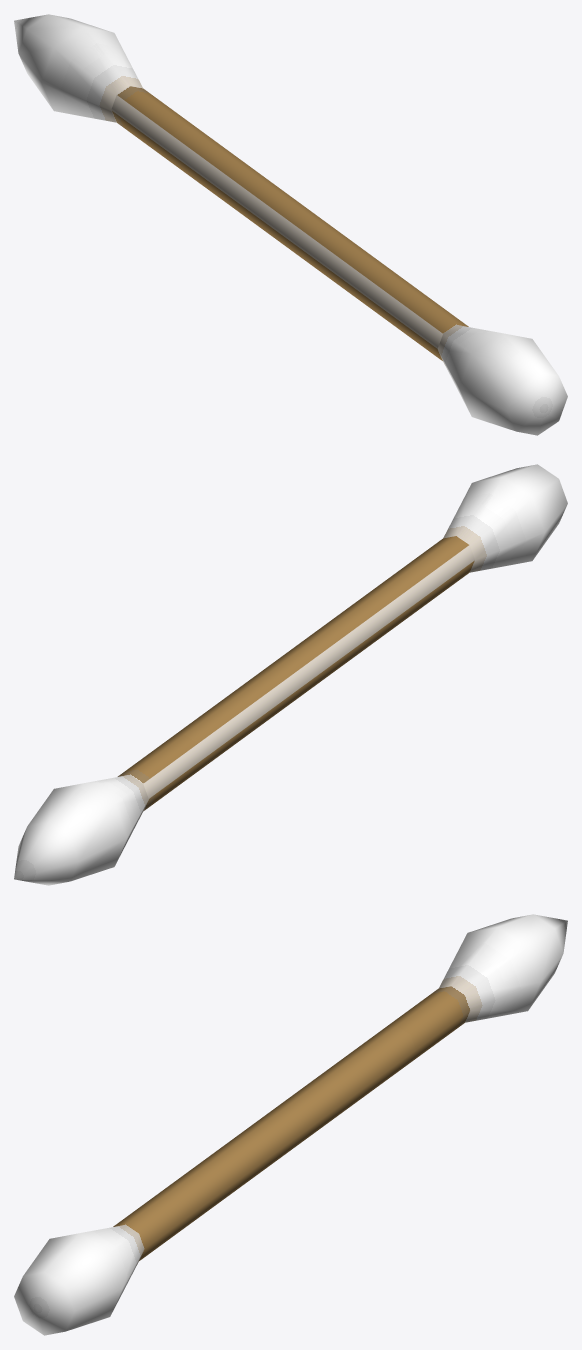
Rendered from mianqian.fbx.
The picture shows the model from 3 angles, top to bottom: view 1: azimuth 30°, elevation 25°; view 2: azimuth 150°, elevation 25°; view 3: azimuth 330°, elevation 25°; orthographic projection.
Parts seen in each view (by area): view 1: mianqian; view 2: mianqian; view 3: mianqian.
Boxes of the visible parts, bbox=[...] form: mianqian: bbox=[14, 14, 567, 435]; mianqian: bbox=[14, 464, 567, 885]; mianqian: bbox=[14, 914, 567, 1335].
Size of the model in its own units: 4.77 by 4.77 by 51.24.
